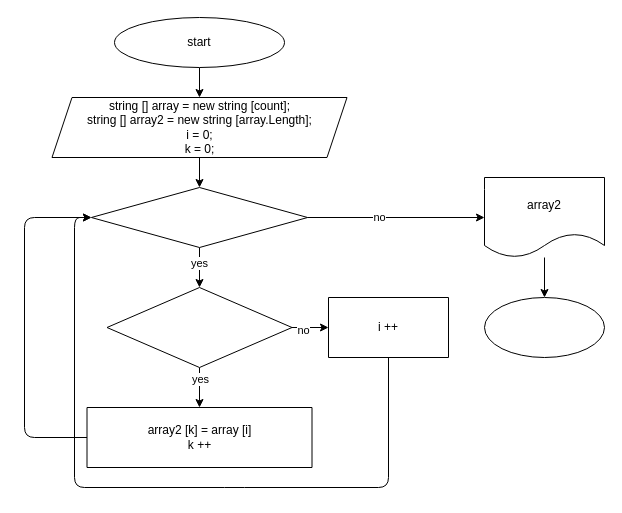
Some shapes in this 622 by 513 pixel diagram are drawn without their labels. The shapes that lost their labels are listed below. From the top down, each one's centre as x and y in pixels, then its label:
At point 199,217: "i < array.Length".
At point 199,327: "array[i].Length <= 3".
At point 544,327: "end".
